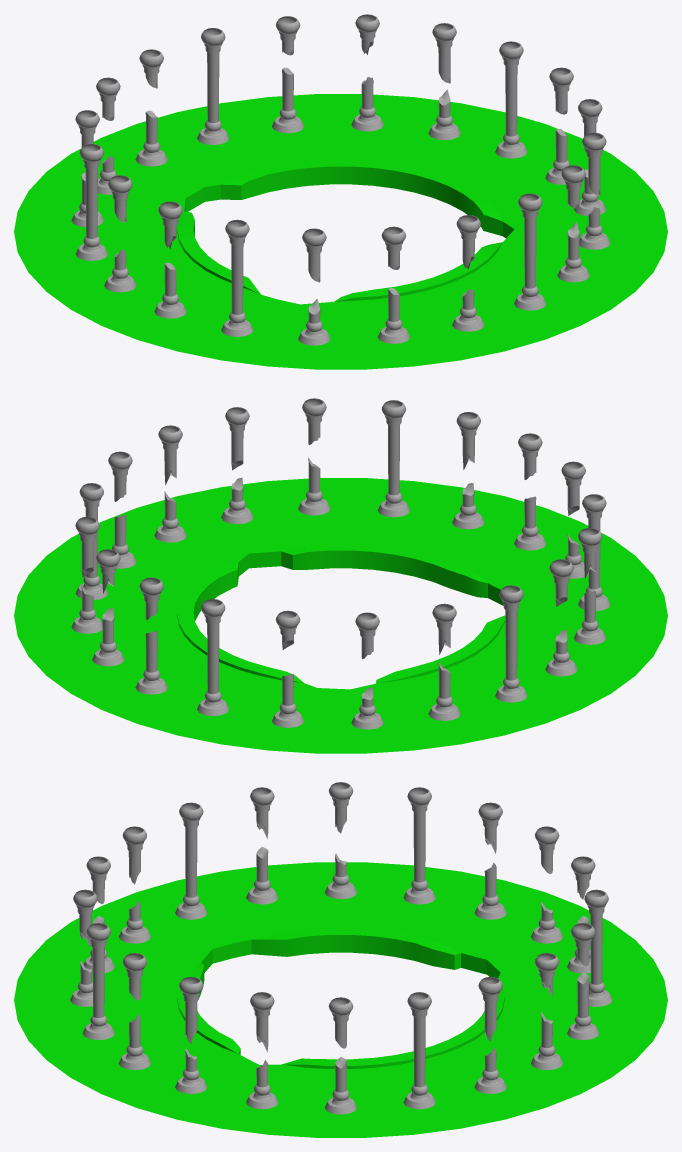
The model's file is ArenaFull.fbx.
3 renders of one model, top to bottom at view 1: azimuth 30°, elevation 25°; view 2: azimuth 150°, elevation 25°; view 3: azimuth 270°, elevation 25°, orthographic.
Visible parts, largest first — view 1: polySurface1, polySurface37, polySurface4, polySurface8, polySurface12, polySurface16, polySurface33, polySurface7, polySurface27, polySurface36, polySurface5, polySurface29 (+22 smaller); view 2: polySurface1, polySurface16, polySurface12, polySurface8, polySurface4, polySurface37, polySurface33, polySurface14, polySurface20, polySurface29, polySurface7, polySurface5 (+23 smaller); view 3: polySurface1, polySurface16, polySurface37, polySurface4, polySurface8, polySurface12, polySurface33, polySurface27, polySurface22, polySurface29, polySurface20, polySurface32 (+22 smaller).
Part boxes in pixels (x1=…): polySurface1: x1=14, y1=94, x2=667, y2=369; polySurface37: x1=495, y1=41, x2=527, y2=158; polySurface4: x1=221, y1=219, x2=253, y2=336; polySurface8: x1=514, y1=193, x2=546, y2=310; polySurface12: x1=197, y1=28, x2=229, y2=144; polySurface16: x1=75, y1=144, x2=107, y2=260; polySurface33: x1=272, y1=67, x2=303, y2=133; polySurface7: x1=557, y1=222, x2=589, y2=282; polySurface27: x1=154, y1=262, x2=186, y2=318; polySurface36: x1=135, y1=110, x2=167, y2=166; polySurface5: x1=378, y1=288, x2=409, y2=343; polySurface29: x1=582, y1=132, x2=606, y2=195; polySurface1: x1=14, y1=478, x2=667, y2=753; polySurface16: x1=495, y1=585, x2=527, y2=702; polySurface12: x1=197, y1=599, x2=229, y2=716; polySurface8: x1=378, y1=400, x2=409, y2=517; polySurface4: x1=578, y1=494, x2=610, y2=611; polySurface37: x1=75, y1=483, x2=107, y2=599; polySurface33: x1=135, y1=630, x2=167, y2=694; polySurface14: x1=92, y1=608, x2=124, y2=666; polySurface20: x1=428, y1=661, x2=460, y2=720; polySurface29: x1=225, y1=407, x2=249, y2=470; polySurface7: x1=298, y1=457, x2=330, y2=515; polySurface5: x1=514, y1=496, x2=546, y2=550; polySurface1: x1=14, y1=862, x2=667, y2=1137; polySurface16: x1=403, y1=787, x2=435, y2=904; polySurface37: x1=403, y1=992, x2=435, y2=1109; polySurface4: x1=175, y1=802, x2=207, y2=919; polySurface8: x1=82, y1=923, x2=114, y2=1040; polySurface12: x1=584, y1=889, x2=612, y2=1006; polySurface33: x1=567, y1=972, x2=599, y2=1040; polySurface27: x1=246, y1=846, x2=278, y2=904; polySurface22: x1=325, y1=1057, x2=356, y2=1114; polySurface29: x1=179, y1=976, x2=203, y2=1043; polySurface20: x1=474, y1=862, x2=506, y2=919; polySurface32: x1=478, y1=976, x2=502, y2=1041.
Bounding box in the file's own units: 207 × 42.51 × 208.
